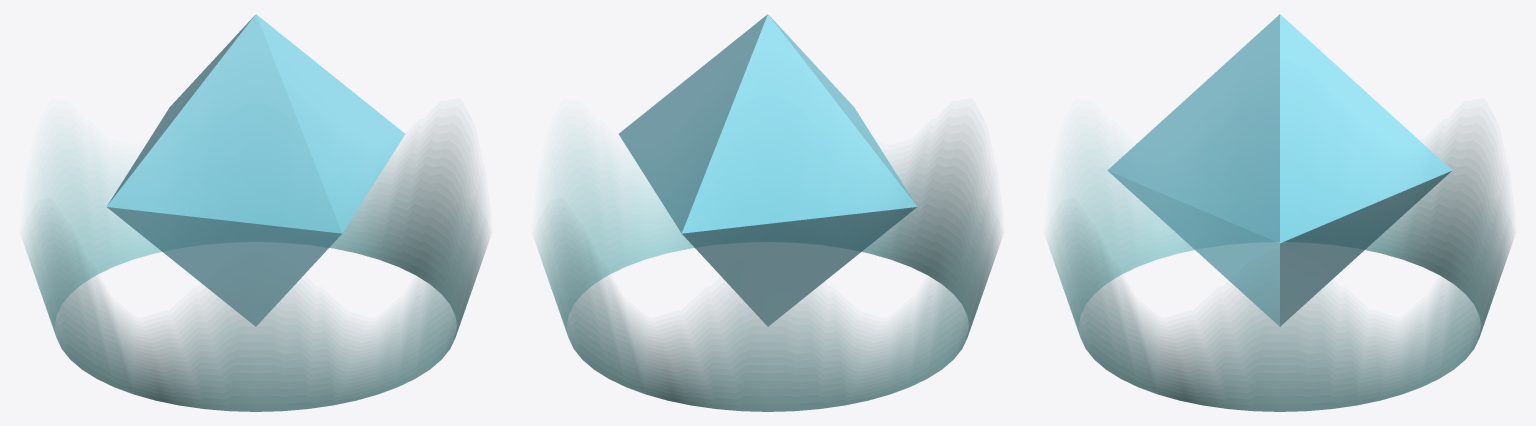
File: perk-gem.glb
3 renders of one model, left to right at view 1: azimuth 30°, elevation 25°; view 2: azimuth 150°, elevation 25°; view 3: azimuth 270°, elevation 25°, orthographic.
Parts seen in each view (by area): view 1: Cylinder, perk_gem; view 2: Cylinder, perk_gem; view 3: Cylinder, perk_gem.
Boxes of the visible parts, box(x1,y1,x2,y2) form: Cylinder: box(22, 123, 489, 411); perk_gem: box(106, 14, 405, 326); Cylinder: box(534, 123, 1001, 411); perk_gem: box(618, 14, 917, 326); Cylinder: box(1046, 123, 1513, 411); perk_gem: box(1107, 14, 1452, 326).
Bounding box in the file's own units: 0.3639 × 0.26 × 0.3639.
2 materials, 1 textured.
